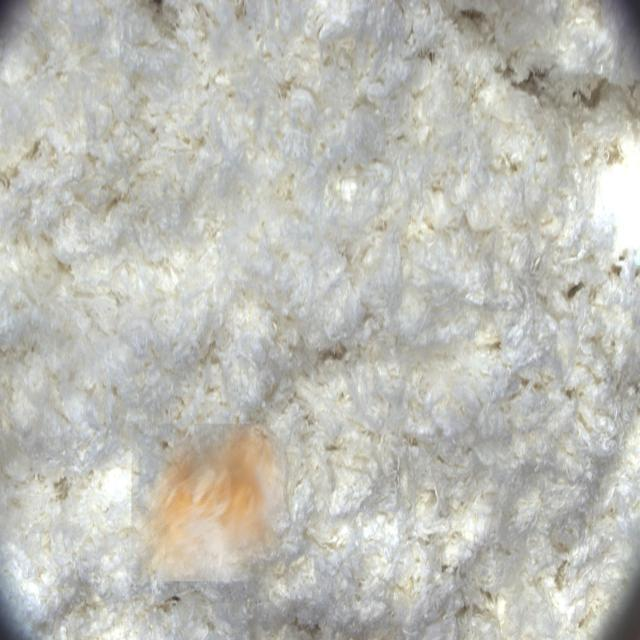dust: (132, 424, 289, 581)
